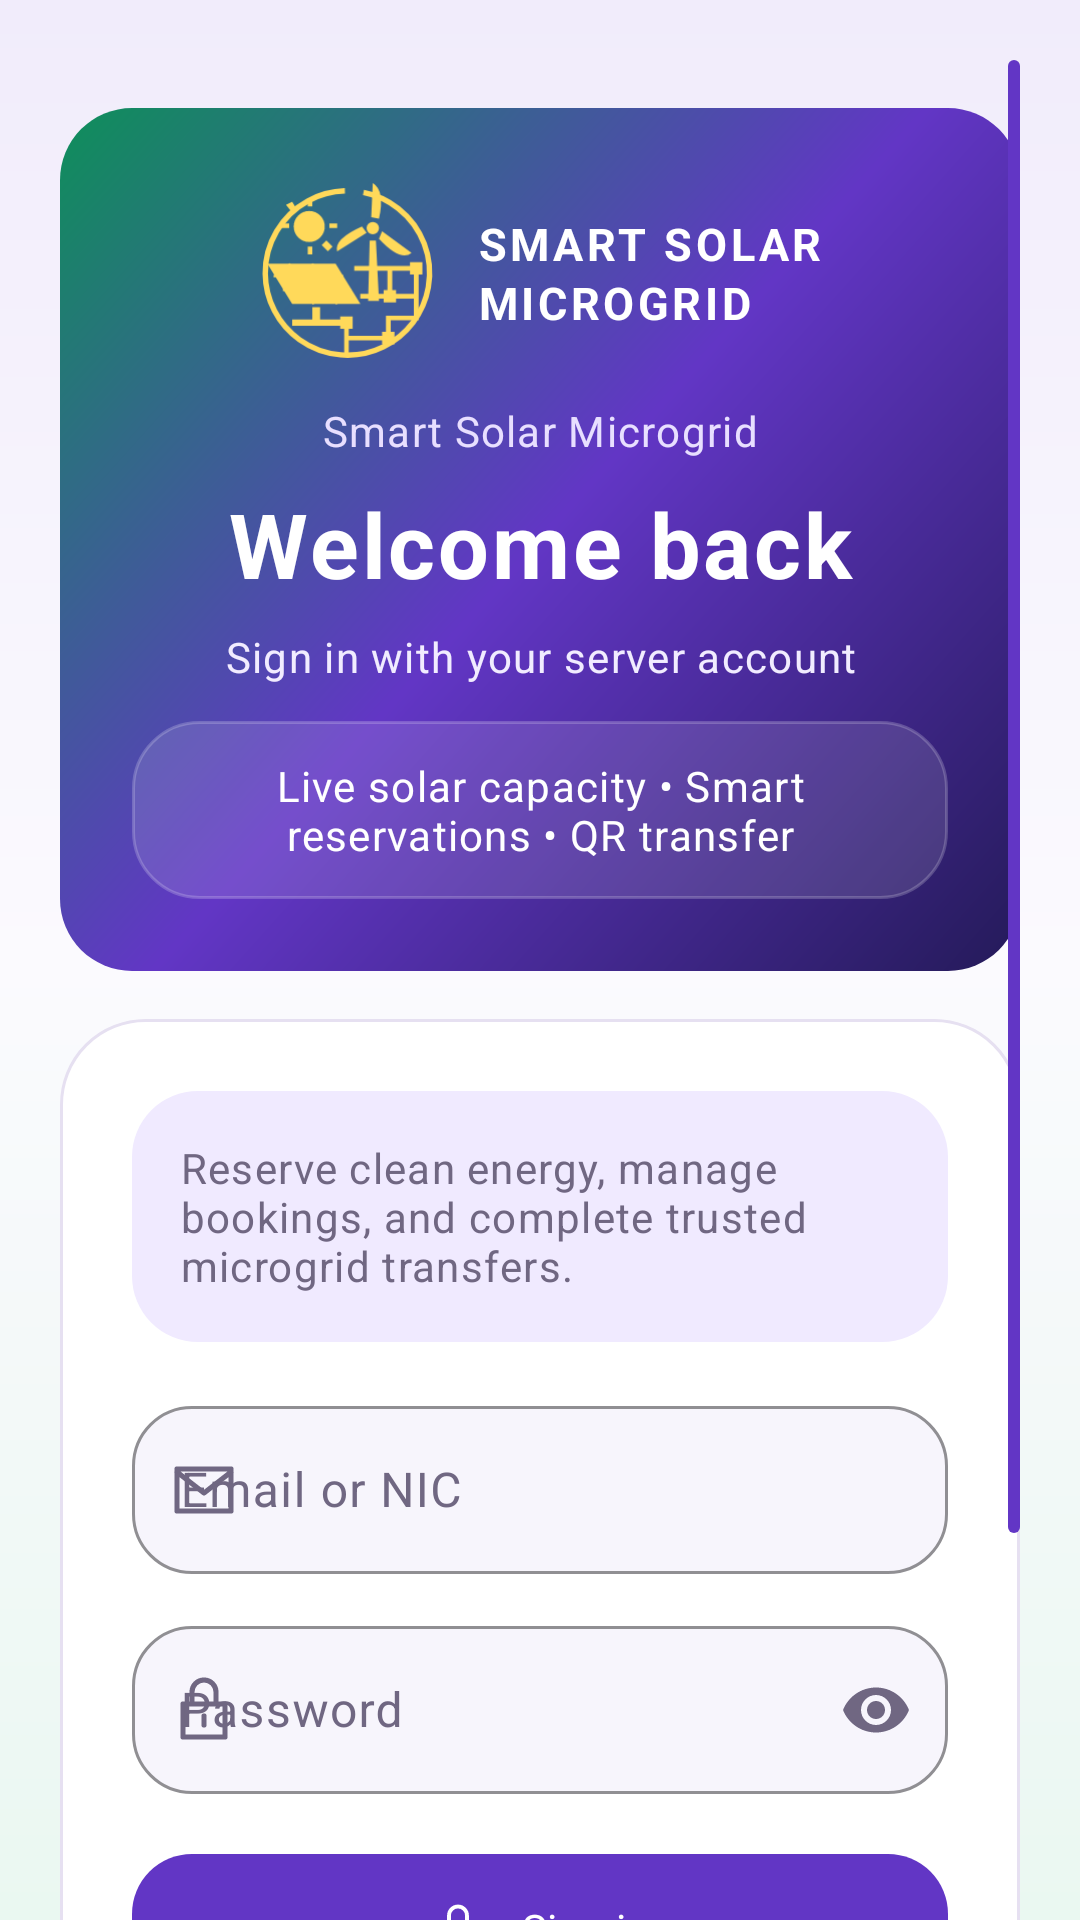

Icon bounding boxes for this 1080w x 1920h phone screenshot, format (x1, y1, x2, y2):
solar brand: (262, 183, 433, 358)
